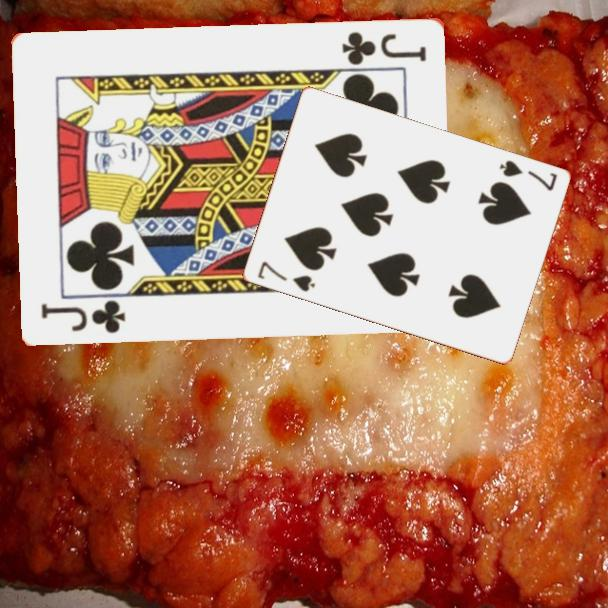c11: (38, 295, 129, 336), (339, 28, 430, 67)
s07: (254, 258, 318, 295), (496, 157, 560, 194)
